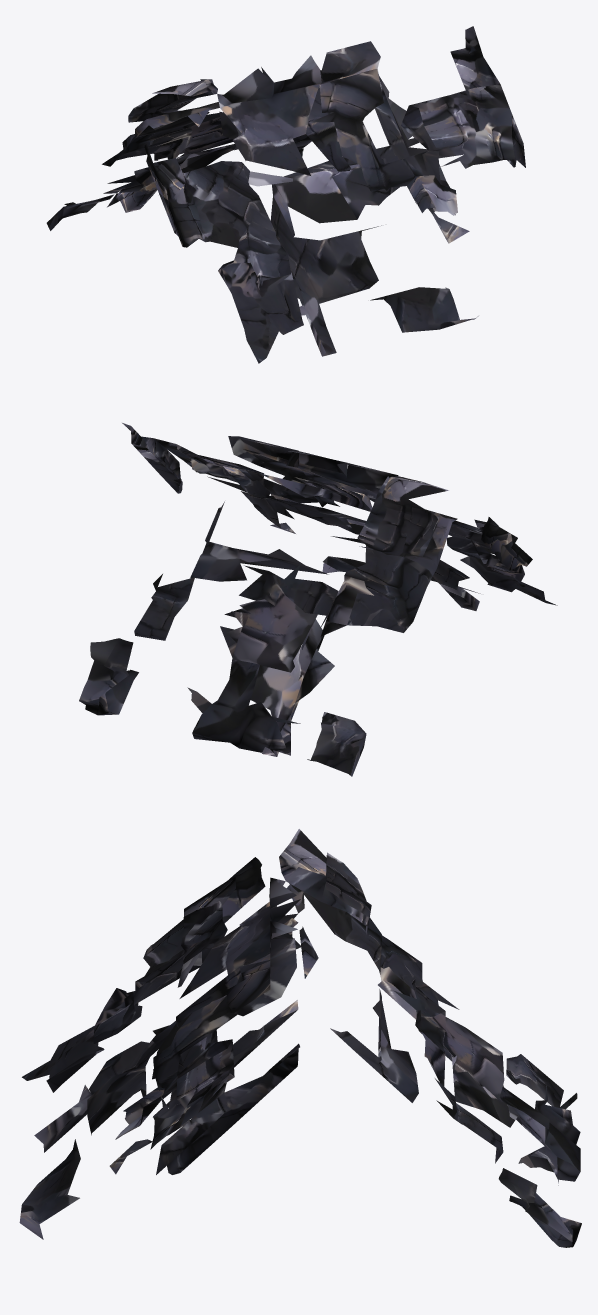
Rendered from RIP0 (2).obj.
3 views of the same model, one above another, from view 1: azimuth 30°, elevation 25°; view 2: azimuth 150°, elevation 25°; view 3: azimuth 270°, elevation 25° (orthographic). The views are drawn at different scales.
Visible parts, largest first — view 1: RIP0; view 2: RIP0; view 3: RIP0.
Part boxes in pixels (x1=…): RIP0: x1=46, y1=26, x2=525, y2=363; RIP0: x1=79, y1=423, x2=557, y2=776; RIP0: x1=19, y1=829, x2=581, y2=1247.
Size of the model in its own units: 0.9246 by 0.5317 by 1.
